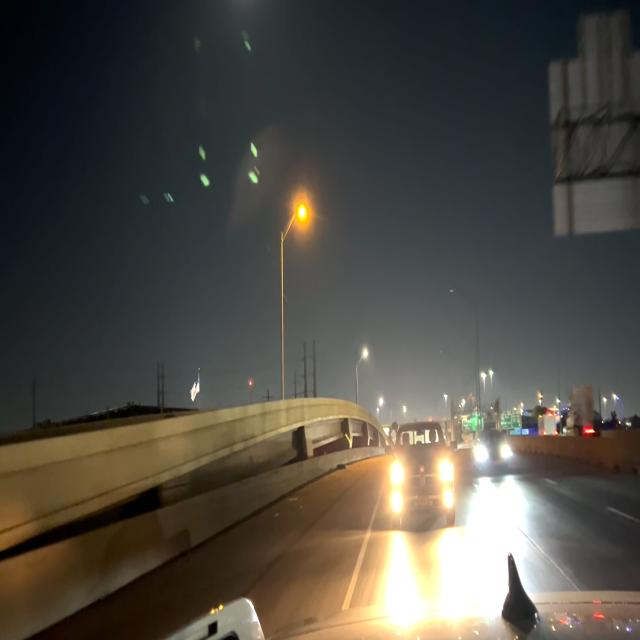back-of-sign: (552, 17, 640, 242)
